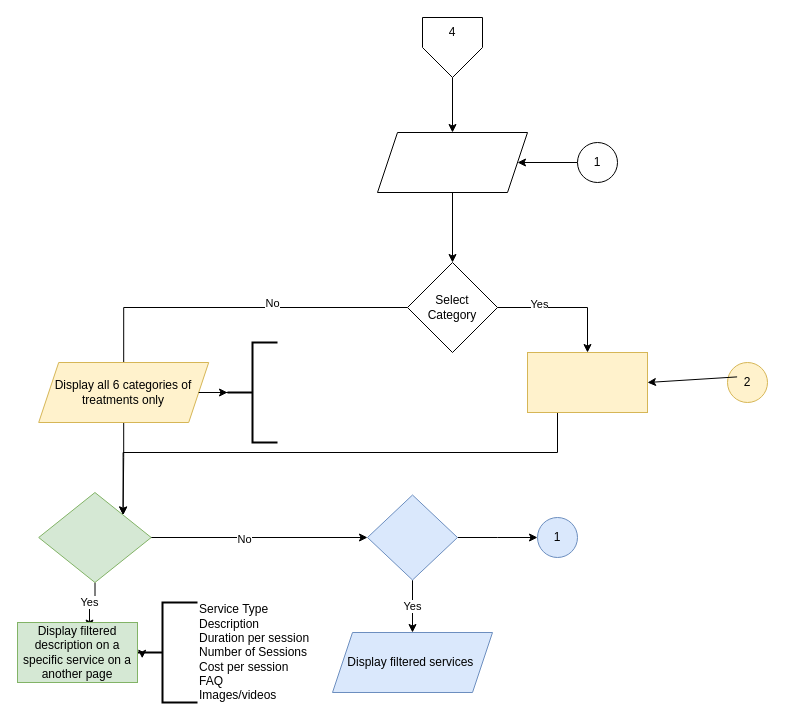
Image size: 785x721. Some labels were removed from this diagram. Each missing label, with the box of its shape:
Display 6 categories of treatments: (376, 132, 528, 192)
Display services specific to the category selected on services page: (526, 352, 648, 412)
Search/Filter Service: (366, 494, 458, 580)
Treatment type Description Number of services View All button: (226, 341, 278, 443)
View a Service in depth ?: (38, 492, 151, 582)
